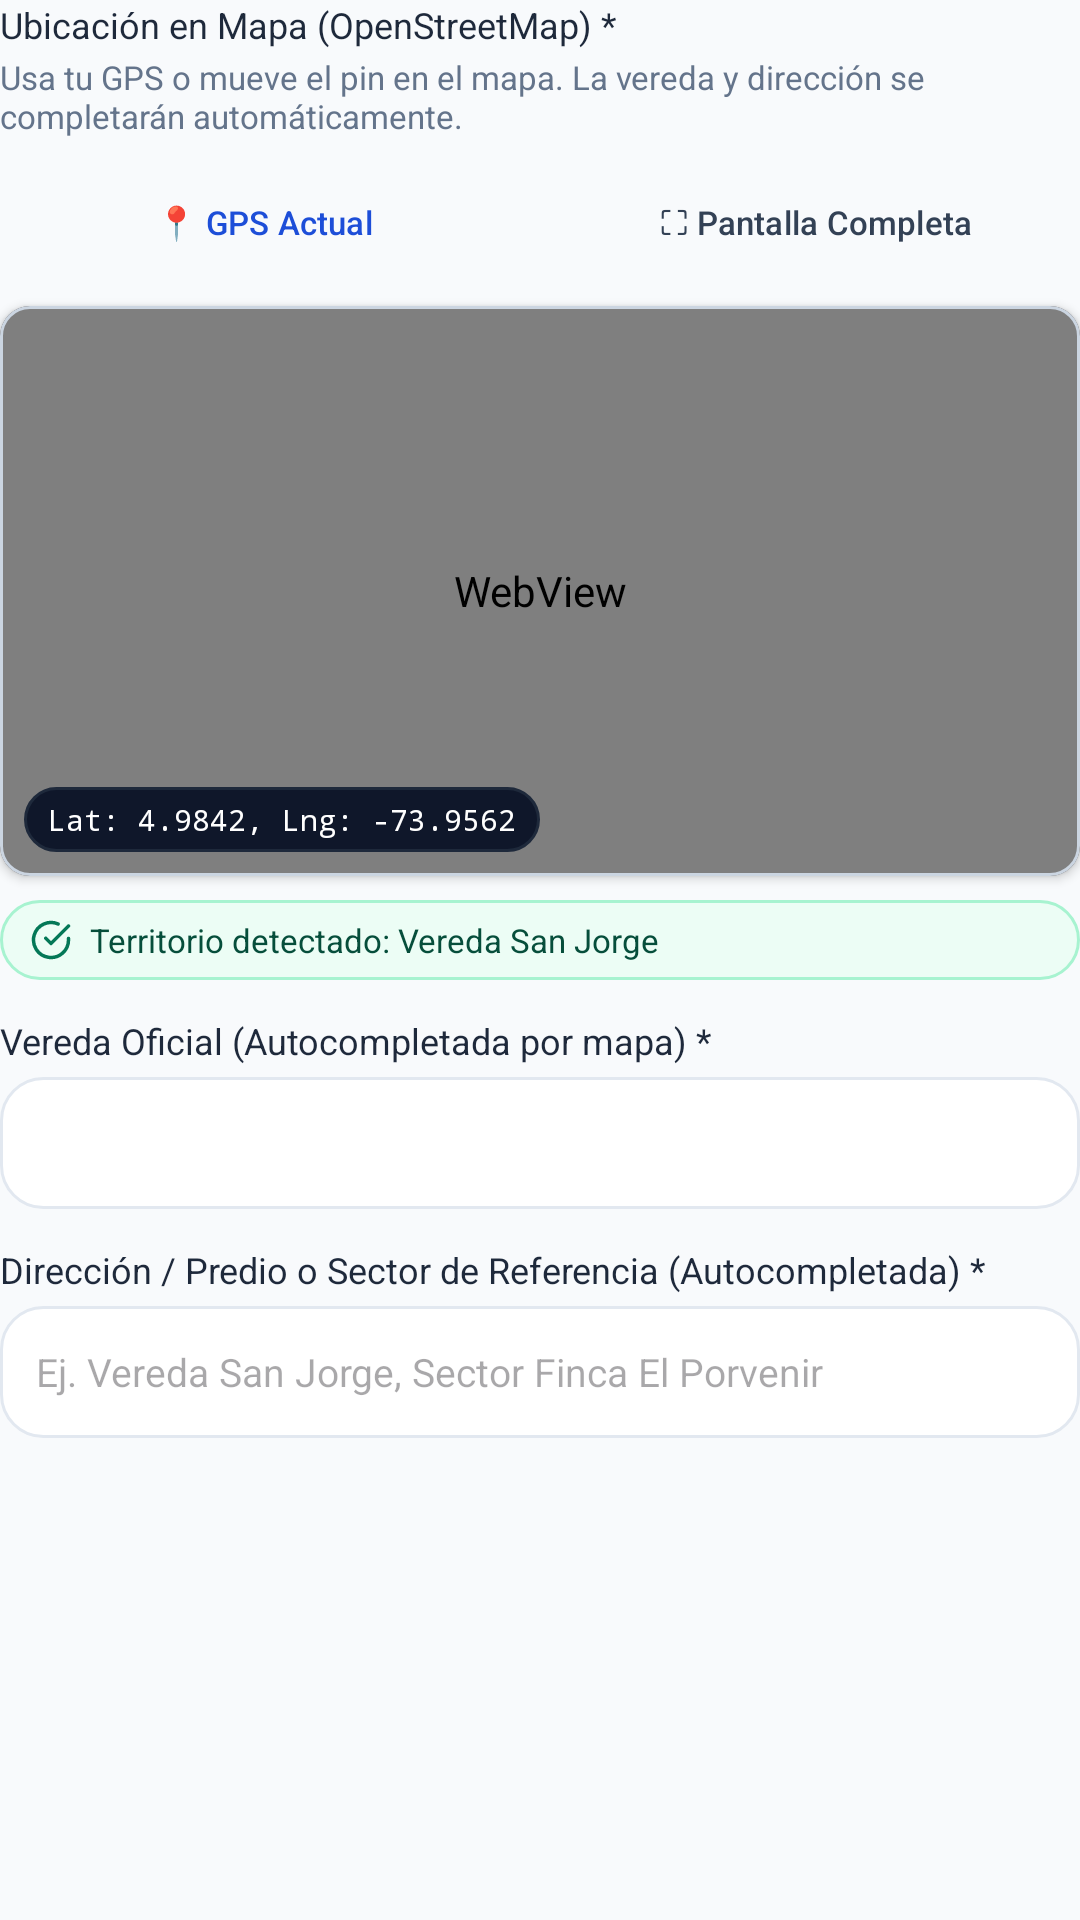

Icons on this 1080x1920 Android screen, each with its box as (x1, y1, x2, y2):
check circle: (31, 920, 71, 960)
